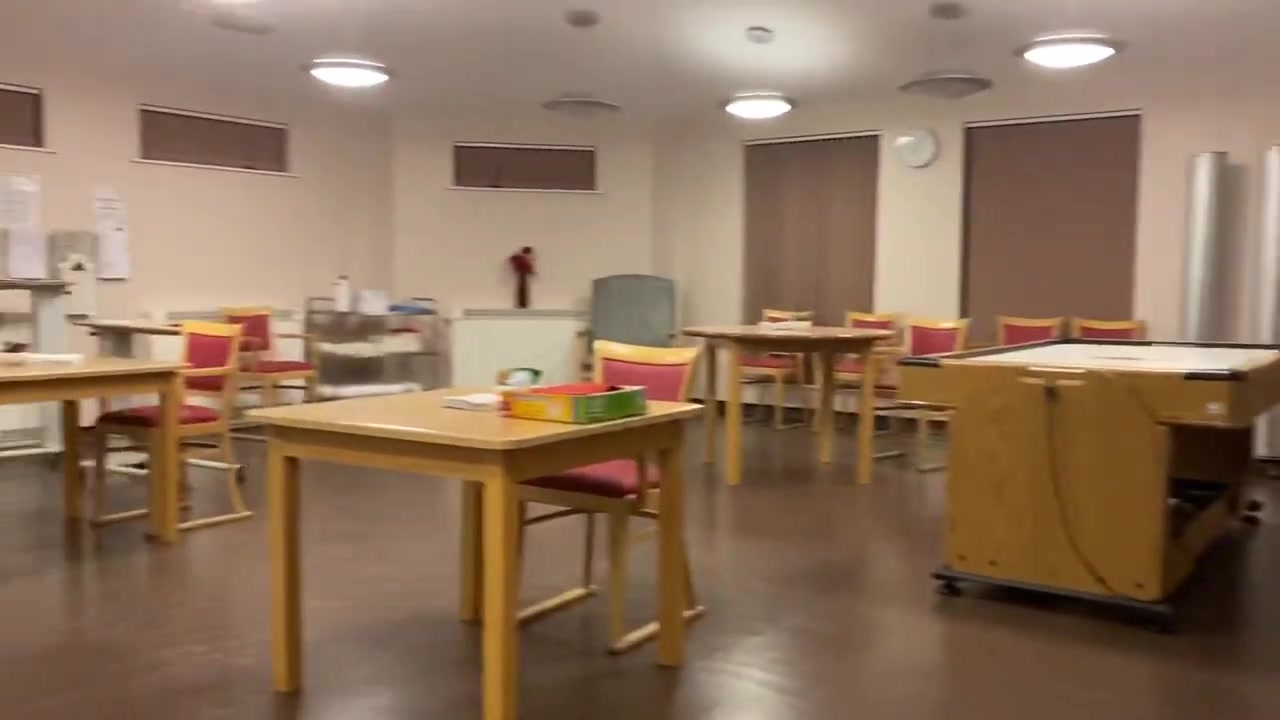chair: (458, 340, 709, 657), (94, 317, 251, 541), (870, 316, 976, 474), (219, 307, 320, 443), (727, 308, 817, 432), (842, 310, 905, 432), (586, 273, 682, 353), (989, 310, 1063, 353), (1072, 315, 1148, 342)
table: (247, 382, 705, 720), (1, 352, 196, 544), (681, 322, 897, 487)
utility_cart: (305, 294, 440, 400)
